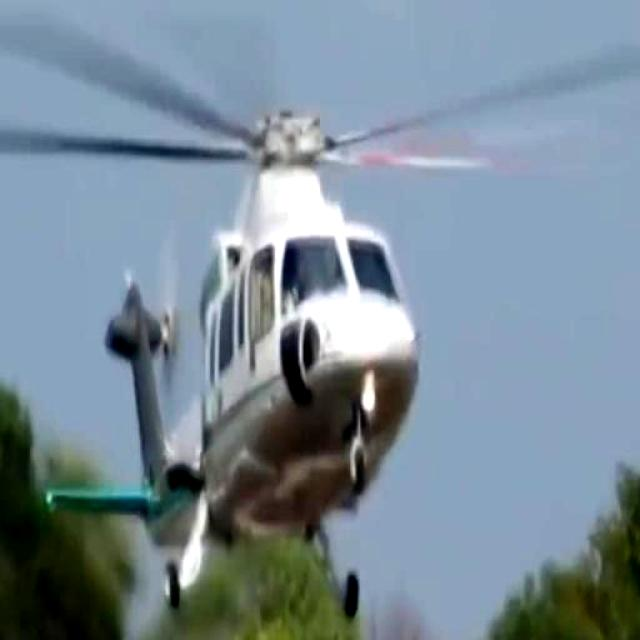drone: (50, 21, 440, 609)
